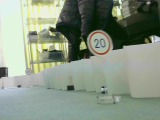speed_20: (87, 30, 113, 56)
